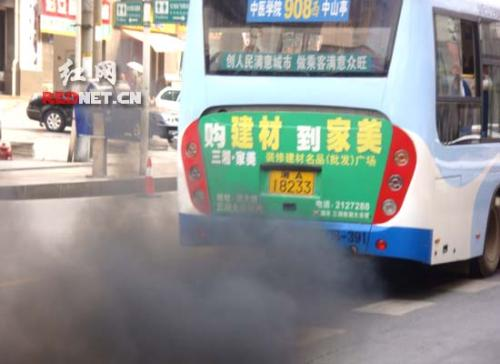smoke: (3, 209, 359, 362)
